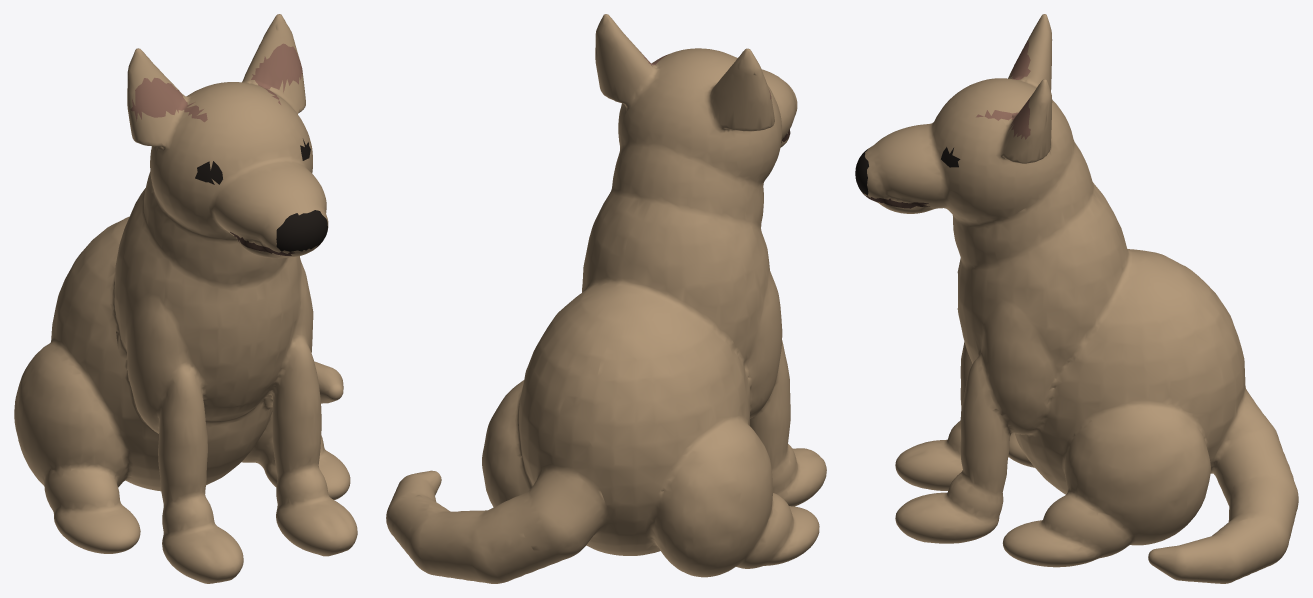
Rendered from A-NEW-20261027-DOG-001_LOD0_R2.glb.
3 renders of one model, left to right at view 1: azimuth 30°, elevation 25°; view 2: azimuth 150°, elevation 25°; view 3: azimuth 270°, elevation 25°, orthographic. The views are drawn at different scales.
Visible parts, largest first — view 1: original seated dog whole continuous skin; view 2: original seated dog whole continuous skin; view 3: original seated dog whole continuous skin.
Part boxes in pixels (x1,y1,x2,y2): original seated dog whole continuous skin: (14, 14, 357, 583); original seated dog whole continuous skin: (386, 14, 826, 583); original seated dog whole continuous skin: (855, 14, 1298, 583).
Size of the model in its own units: 0.7266 by 0.9969 by 0.8596.
